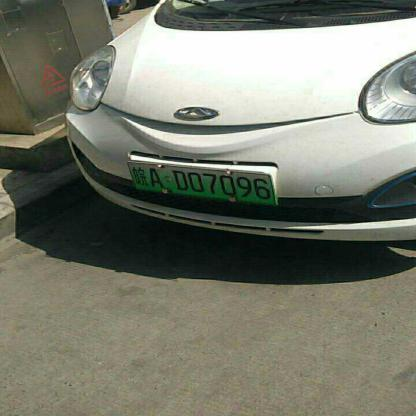lp: (126, 160, 276, 204)
